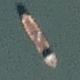ship: (34, 4, 42, 70)
